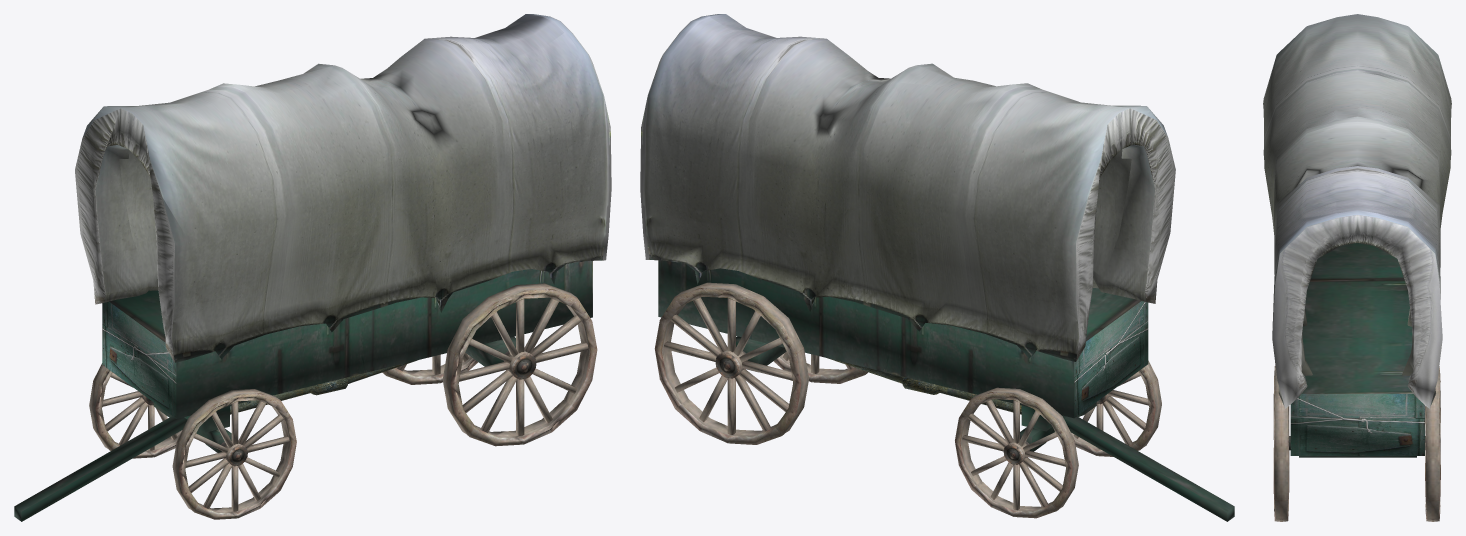
Rendered from wagon.fbx.
The picture shows the model from 3 angles, left to right: view 1: azimuth 30°, elevation 25°; view 2: azimuth 150°, elevation 25°; view 3: azimuth 270°, elevation 25°; orthographic projection. The views are drawn at different scales.
Visible parts, largest first — view 1: U3DMesh; view 2: U3DMesh; view 3: U3DMesh.
Boxes of the visible parts, x1,y1,x2,y2 form: U3DMesh: [14, 14, 611, 521]; U3DMesh: [640, 14, 1234, 521]; U3DMesh: [1263, 14, 1451, 521].
Size of the model in its own units: 10.02 by 6.78 by 3.31.
Materials: 1 (1 with a texture image).
